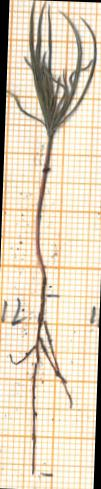flower: (4, 0, 100, 139)
root: (4, 293, 84, 480)
stem: (32, 142, 59, 292)
